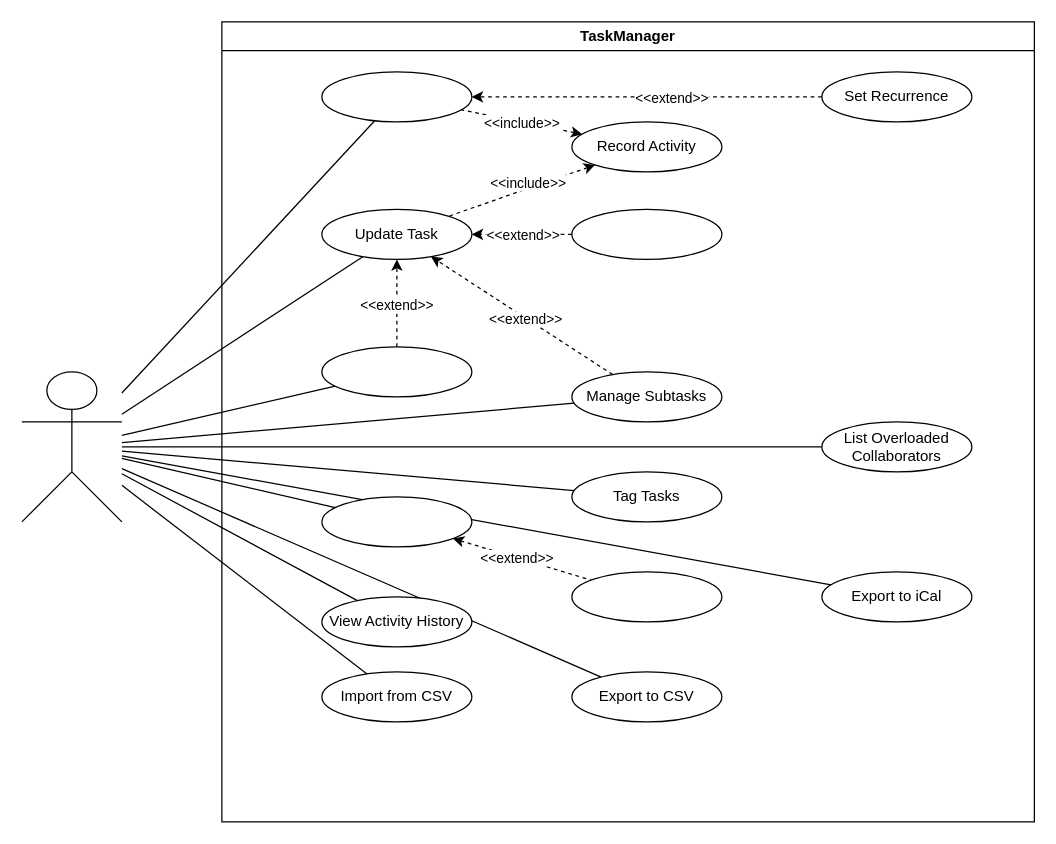
Some shapes in this 1056 by 844 pixel diagram are drawn without their labels. The box of each missing label's shape, as (x1, y1, x2, y2) in pixels:
Assign Collaborator: (571, 208, 722, 259)
Create Task: (321, 71, 472, 122)
Manage Projects: (321, 346, 472, 397)
Search Task: (571, 571, 722, 622)
User: (21, 371, 122, 522)
View Tasks: (321, 496, 472, 547)
